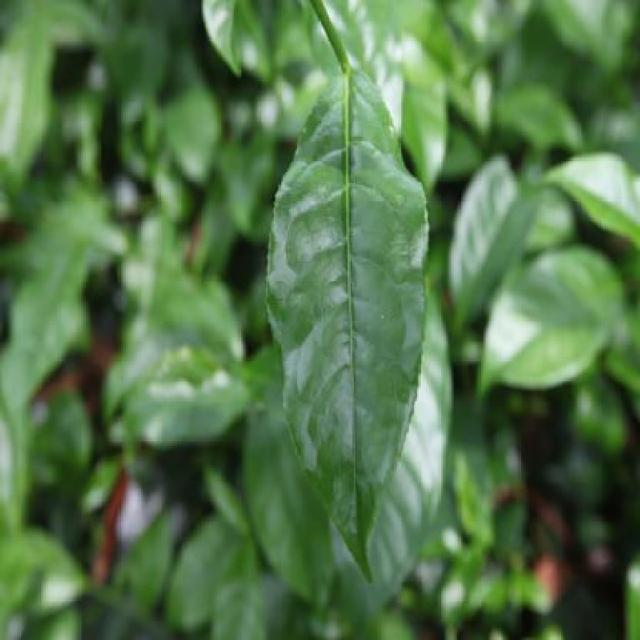Tea leaf: (230, 63, 412, 575)
